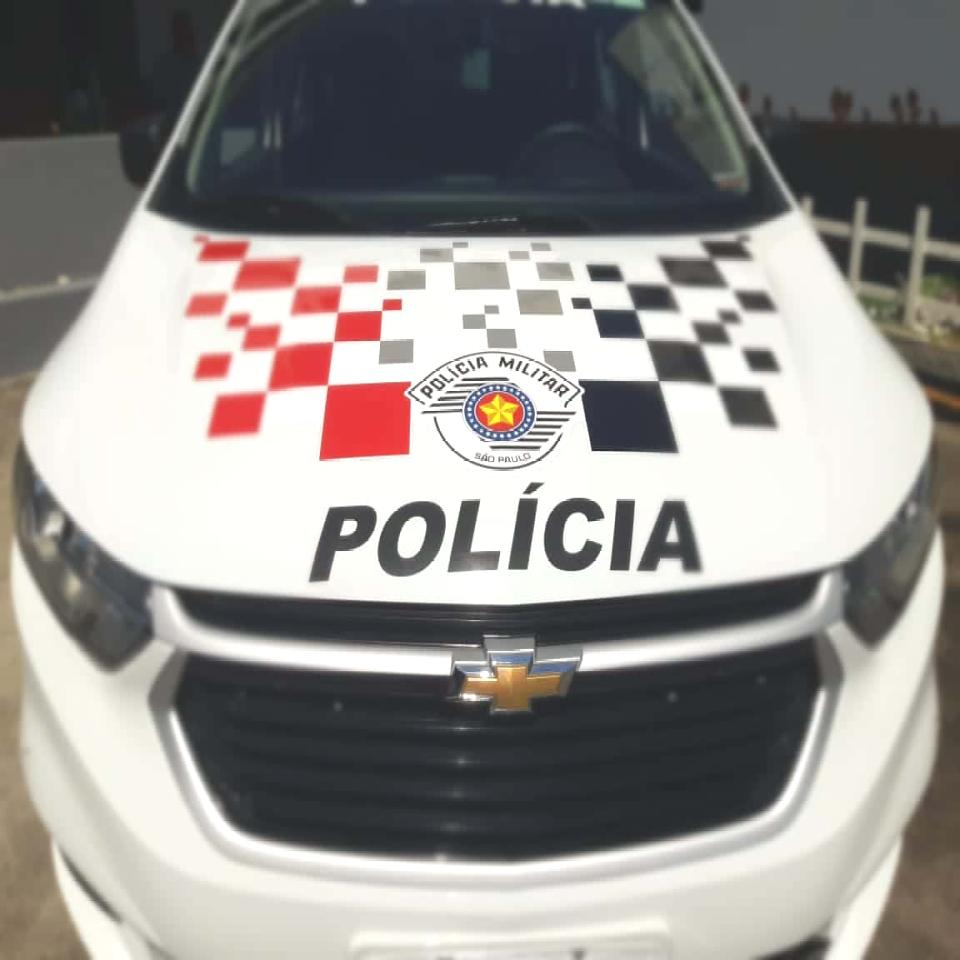viatura: (13, 0, 942, 960)
